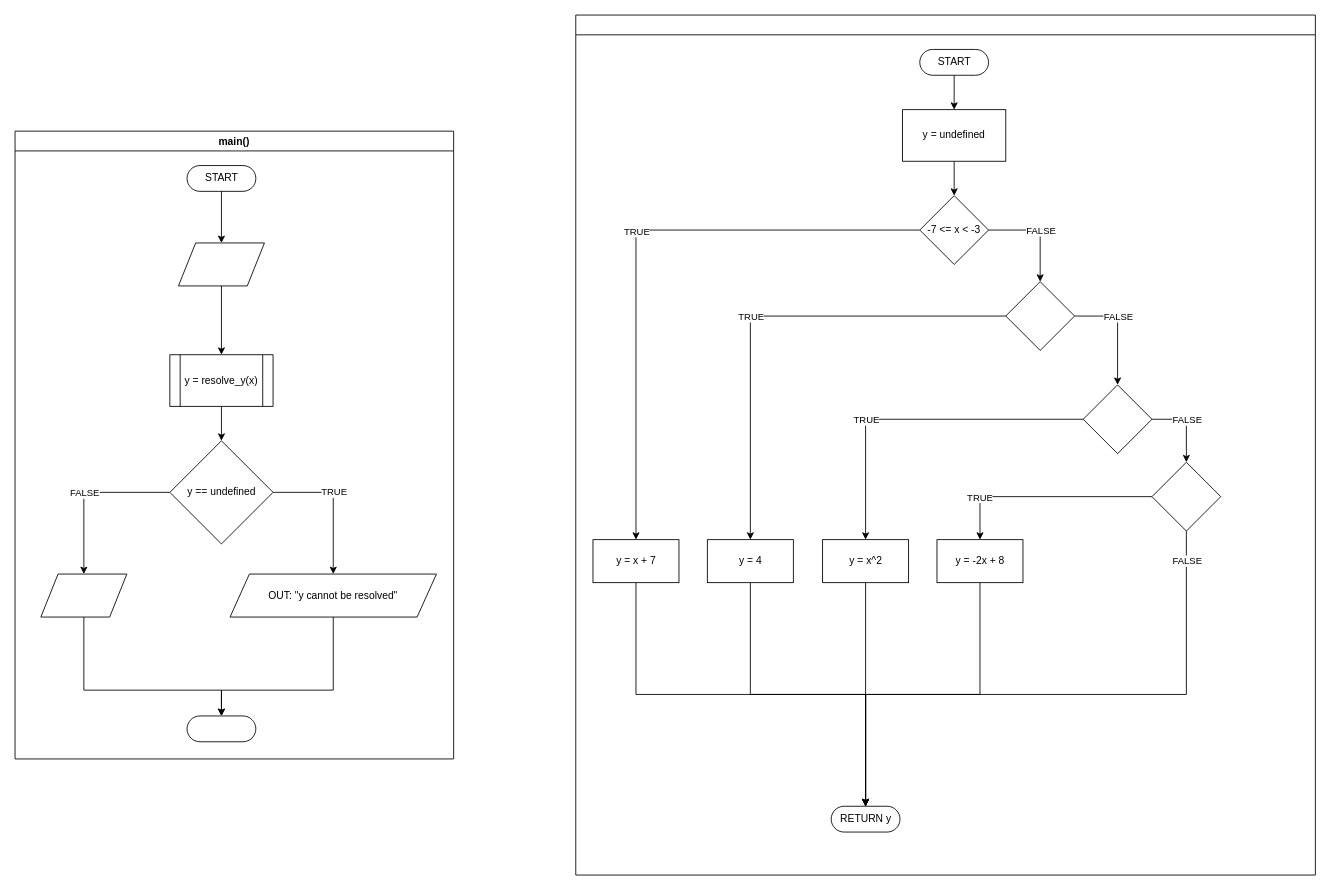
The diagram is 1330 pixels wide and 890 high, and some of its shapes have lost their labels. Each missing label, with the box of its shape:
-2 <= x < 2: (1082, 384, 1152, 454)
-3 <= x < -2: (1005, 281, 1075, 350)
2 <= x <= 4: (1151, 461, 1221, 531)
END: (186, 715, 256, 742)
IN: x: (178, 242, 264, 286)
OUT: x, y: (40, 573, 127, 617)
resolve_y(x): (575, 14, 1315, 875)
